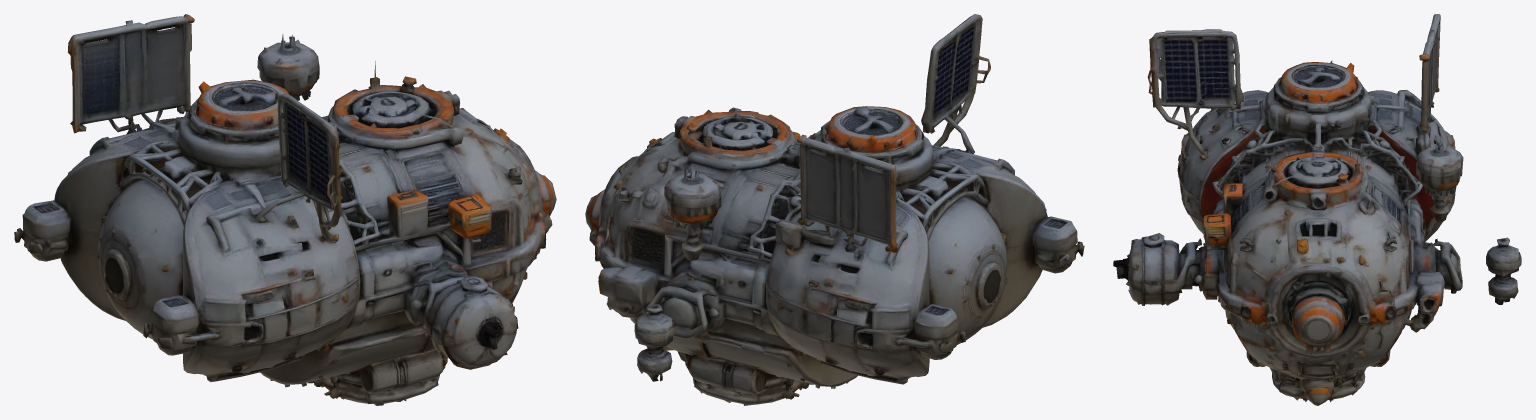
Rendered from outpost.dc36bb6fa5.glb.
3 renders of one model, left to right at view 1: azimuth 30°, elevation 25°; view 2: azimuth 150°, elevation 25°; view 3: azimuth 270°, elevation 25°, orthographic. The views are drawn at different scales.
Parts seen in each view (by area): view 1: tripo_node_64db9445-e0a7-4c76-829b-cafac8026eec; view 2: tripo_node_64db9445-e0a7-4c76-829b-cafac8026eec; view 3: tripo_node_64db9445-e0a7-4c76-829b-cafac8026eec.
Part boxes in pixels (<box>): tripo_node_64db9445-e0a7-4c76-829b-cafac8026eec: <box>14,14,556,405</box>; tripo_node_64db9445-e0a7-4c76-829b-cafac8026eec: <box>585,14,1084,405</box>; tripo_node_64db9445-e0a7-4c76-829b-cafac8026eec: <box>1113,14,1521,405</box>.
Bounding box in the file's own units: 1 × 0.7737 × 0.9558.
Materials: 1 (1 with a texture image).
